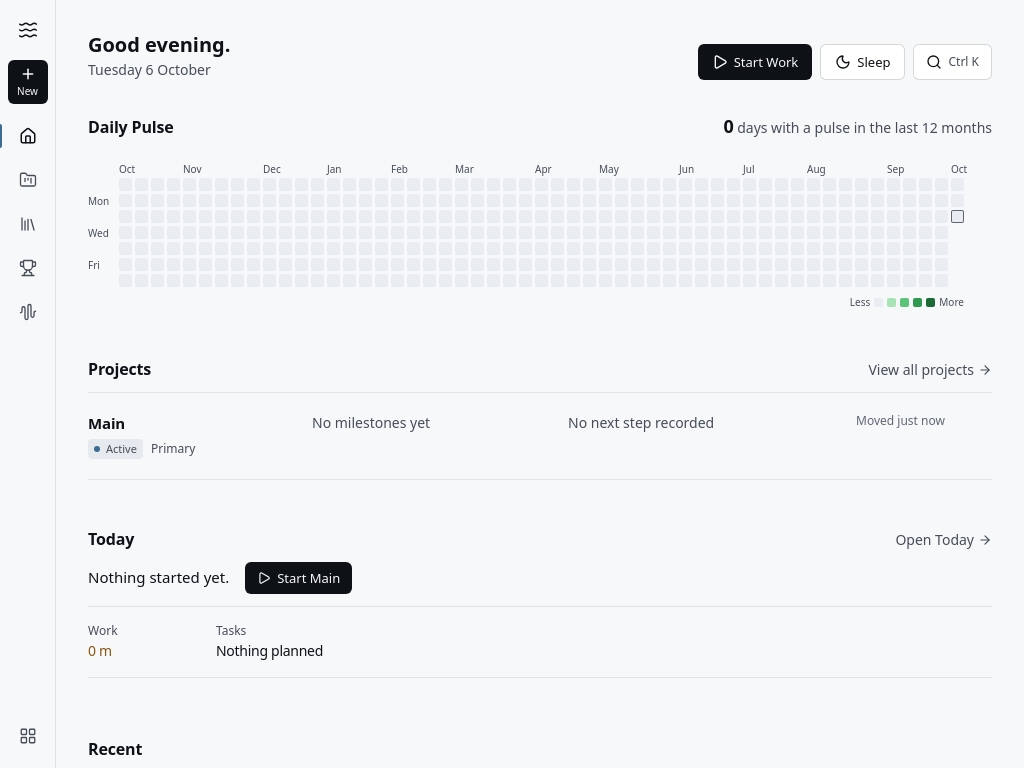
Test case: Home v3 (v2 PHASE 012) › offers a way to begin when nothing has happened yet, starting the top project
Expected: the text "0 days with a pulse in the last 12 months" is shown, x1=724 y1=112 x2=992 y2=140
Expected: the heading "Today" is shown, x1=88 y1=528 x2=134 y2=550
Click the button "Start Main".
click(299, 578)  # box x1=245 y1=562 x2=352 y2=594
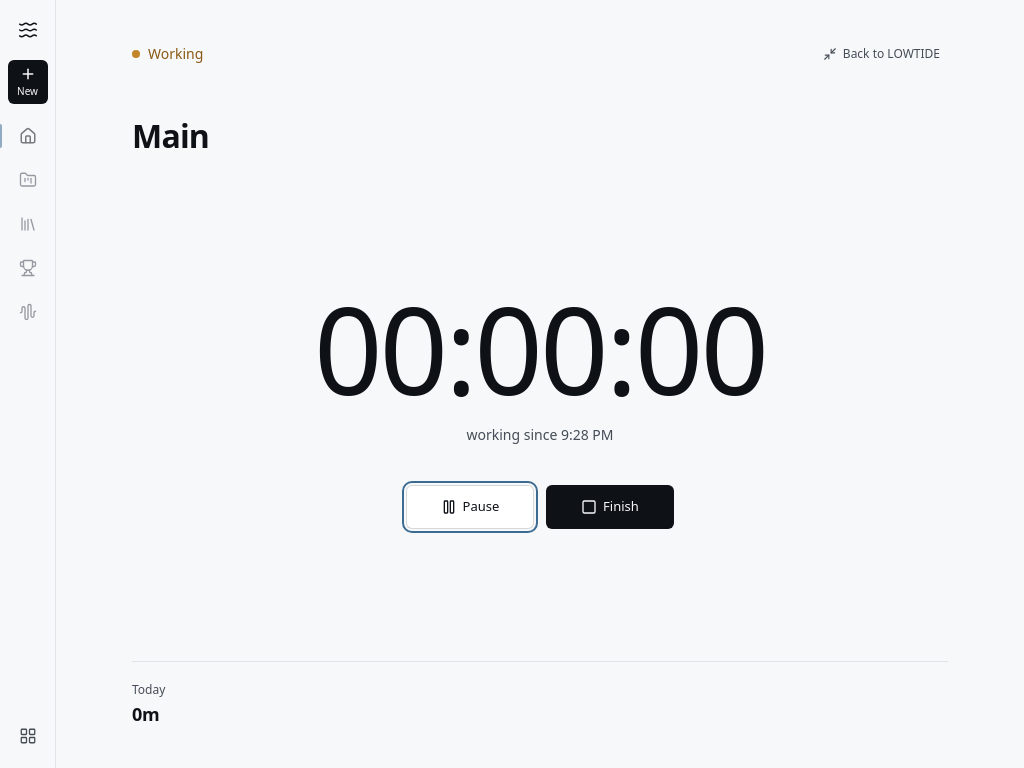
Expected: the element named "Work Mode" is shown
